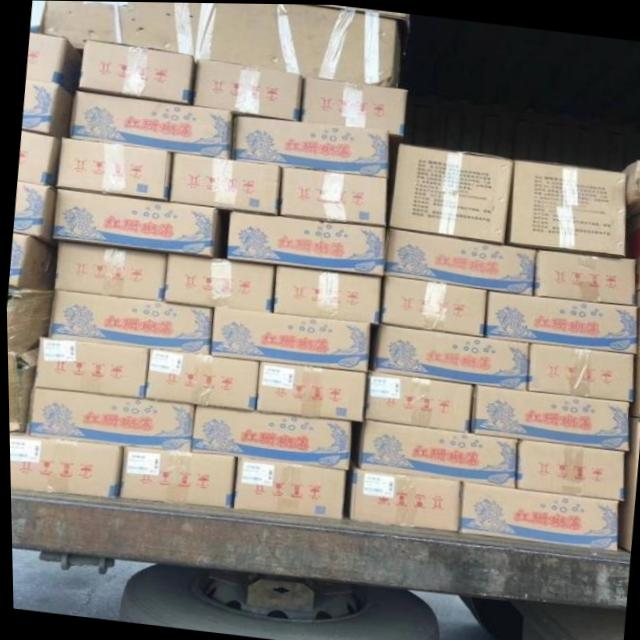box: (39, 1, 411, 86), (386, 140, 512, 242), (504, 157, 625, 256), (52, 187, 222, 257), (219, 207, 386, 277), (67, 89, 234, 158), (349, 419, 517, 486), (457, 479, 617, 549), (21, 387, 193, 452), (207, 306, 372, 371), (46, 289, 210, 354), (469, 383, 628, 450), (367, 323, 528, 389), (189, 405, 352, 469), (231, 114, 394, 178), (383, 226, 537, 292), (483, 287, 637, 352), (342, 457, 459, 530), (74, 40, 195, 104), (8, 432, 123, 497), (141, 348, 258, 411), (231, 457, 348, 520), (29, 336, 147, 398), (116, 446, 234, 508), (165, 151, 279, 215), (54, 138, 171, 199), (512, 437, 624, 500), (50, 240, 167, 300), (254, 360, 369, 421), (192, 57, 303, 120), (361, 368, 471, 431), (269, 263, 383, 323), (160, 253, 275, 312), (300, 74, 409, 136), (278, 165, 390, 225), (379, 274, 489, 334), (526, 340, 636, 399), (532, 246, 635, 303), (25, 30, 81, 93), (6, 336, 38, 436), (617, 414, 640, 551), (21, 79, 74, 138), (6, 286, 50, 354), (12, 181, 54, 246), (8, 232, 55, 289), (16, 131, 59, 185), (626, 288, 640, 416), (621, 156, 640, 217), (625, 211, 640, 288)
